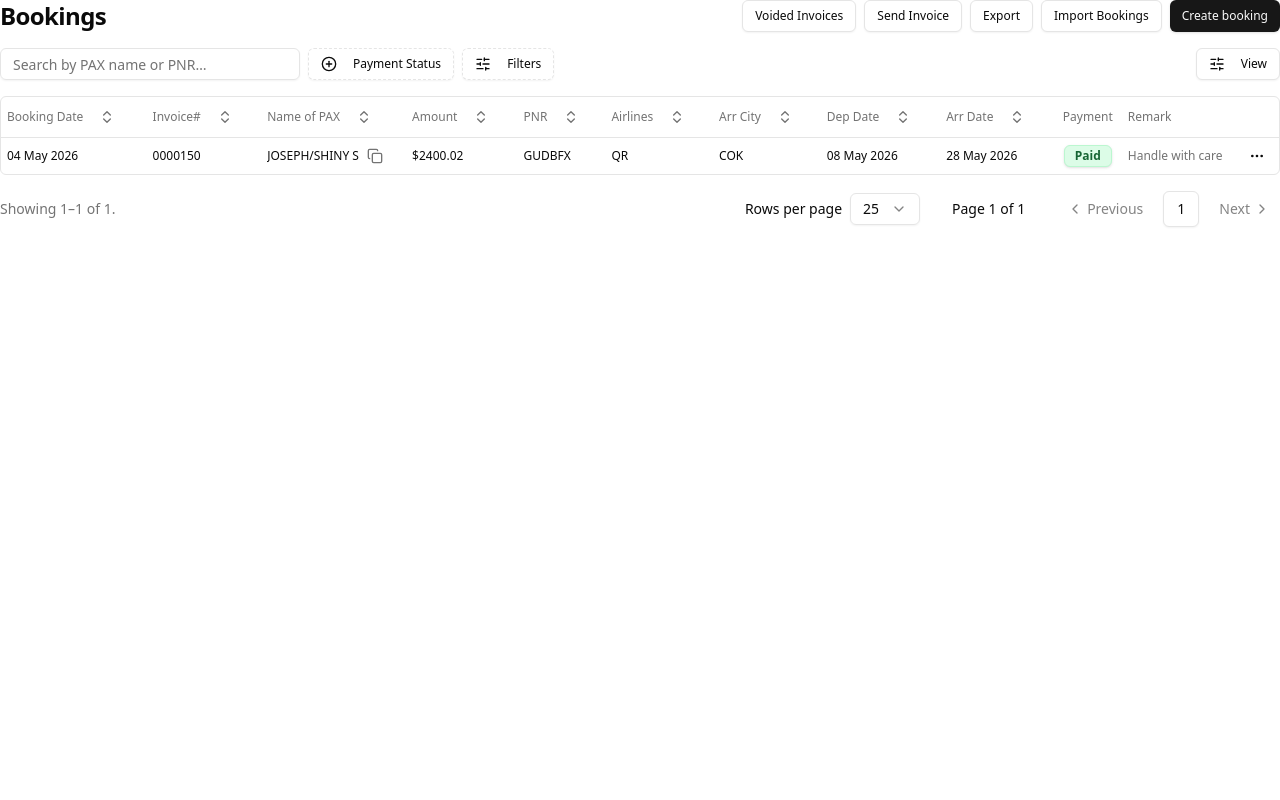
BookingsPage › shows matching customers when typing 3+ letters in the passenger name field
Click the button "Create booking".
click(1225, 16)  # box [1170,0,1279,32]
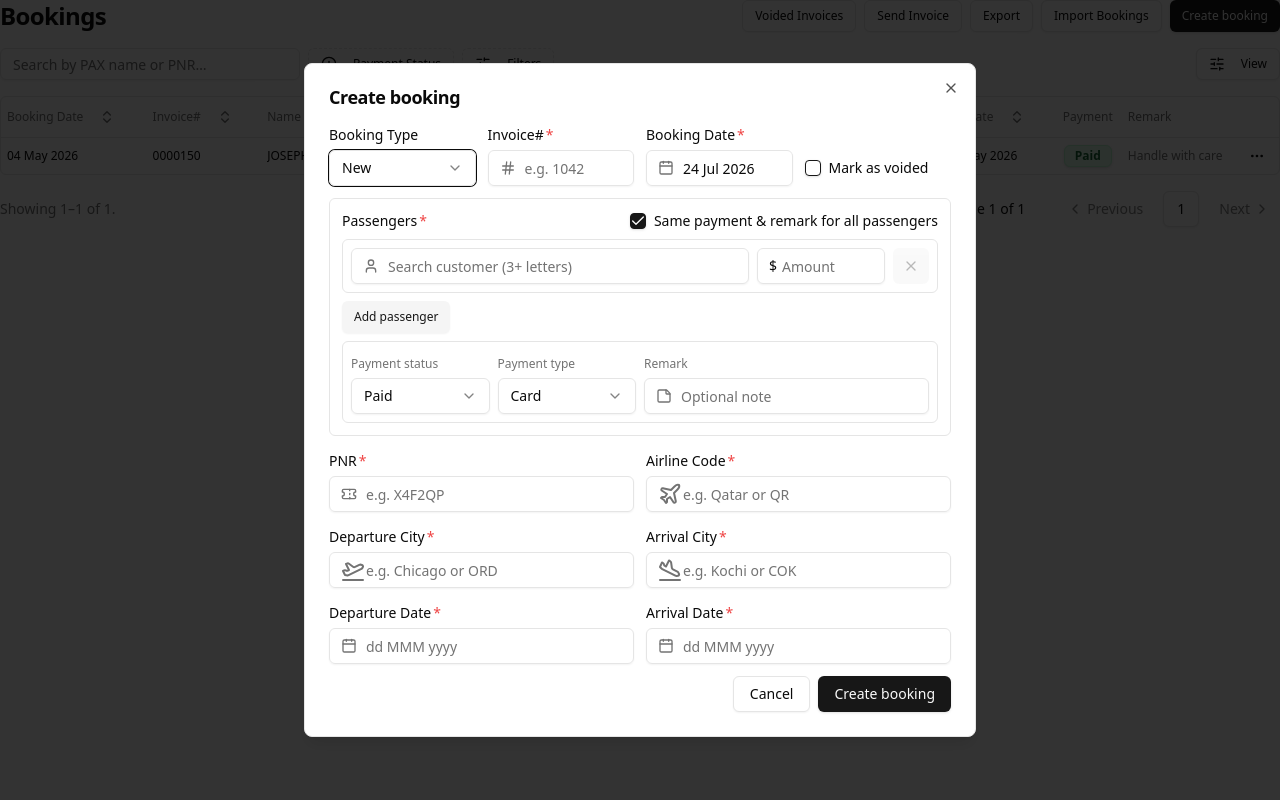
Type "Var" into the dropdown named "Passenger name".
click(550, 266); type("Var")  # box [351,248,749,284]
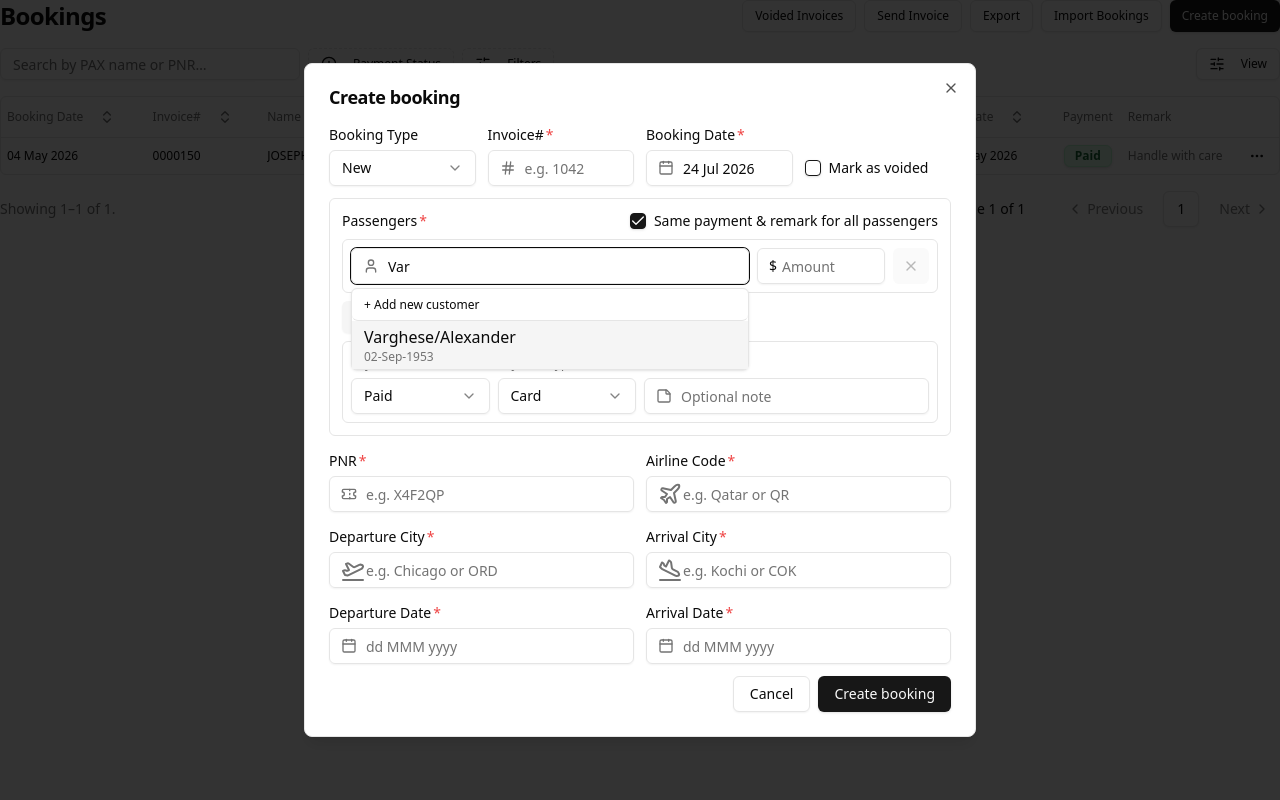
expect the text "Varghese/Alexander" is shown: met, box [364,326,516,348]
